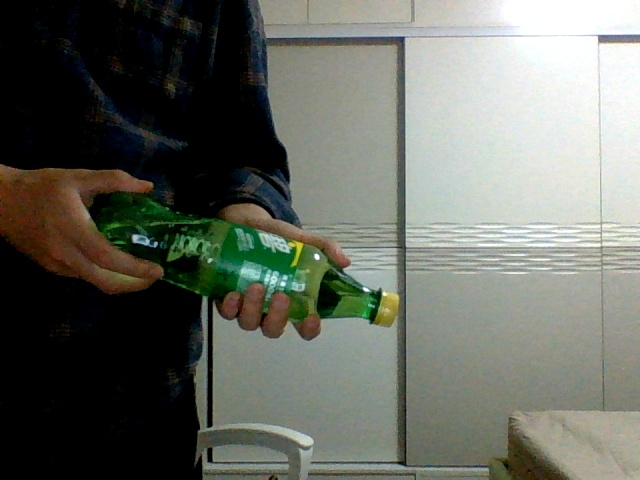Sprite: (89, 192, 399, 325)
